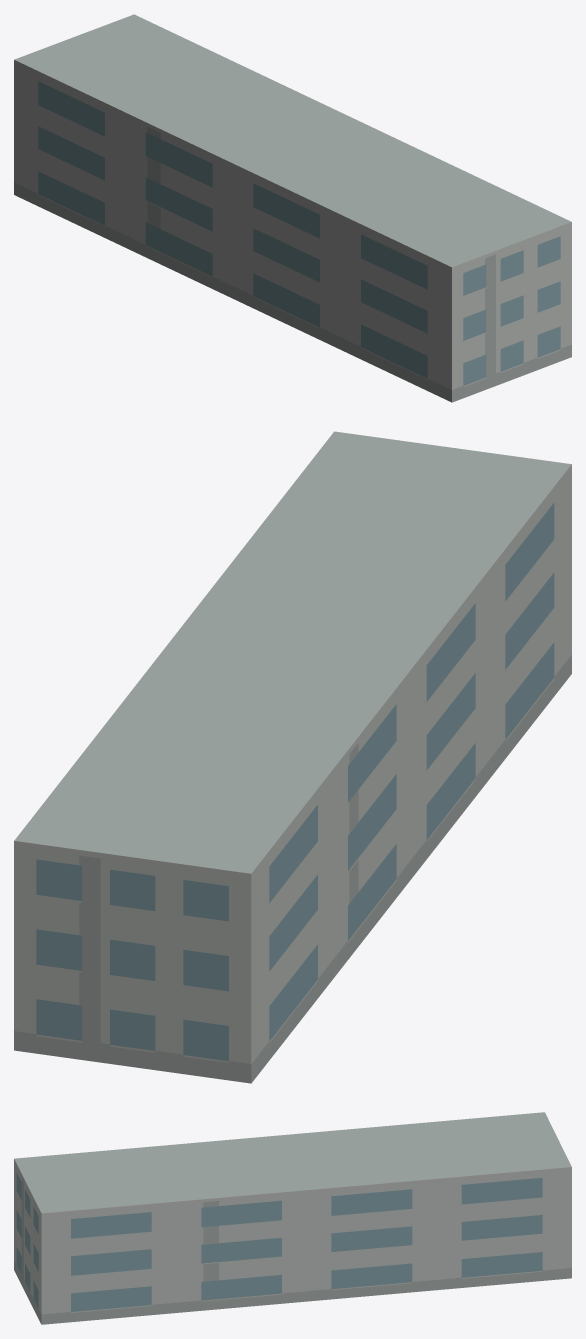
Rendered from survey-upis-32585648.glb.
The picture shows the model from 3 angles, top to bottom: view 1: azimuth 30°, elevation 25°; view 2: azimuth 150°, elevation 25°; view 3: azimuth 270°, elevation 25°; orthographic projection. The views are drawn at different scales.
Visible parts, largest first — view 1: survey-upis-32585648.tmp; view 2: survey-upis-32585648.tmp; view 3: survey-upis-32585648.tmp.
Part boxes in pixels (<box>): survey-upis-32585648.tmp: <box>14,14,571,402</box>; survey-upis-32585648.tmp: <box>14,431,571,1083</box>; survey-upis-32585648.tmp: <box>14,1112,571,1324</box>.
Size of the model in its own units: 17.87 by 9.15 by 41.56.
